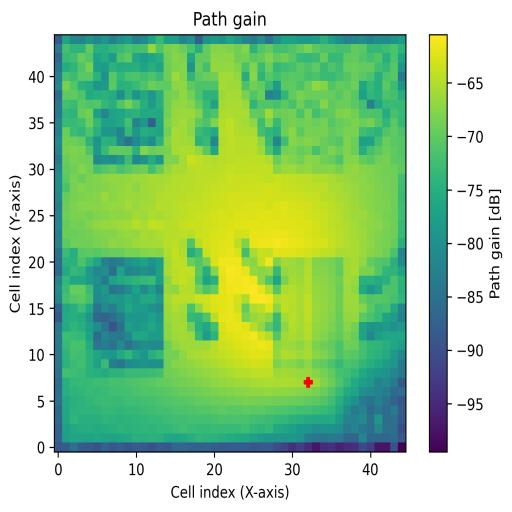Concrete: (273, 52, 344, 174)
Glass: (94, 55, 163, 174)
Metal: (273, 258, 343, 376)
Wood: (85, 258, 164, 376)
